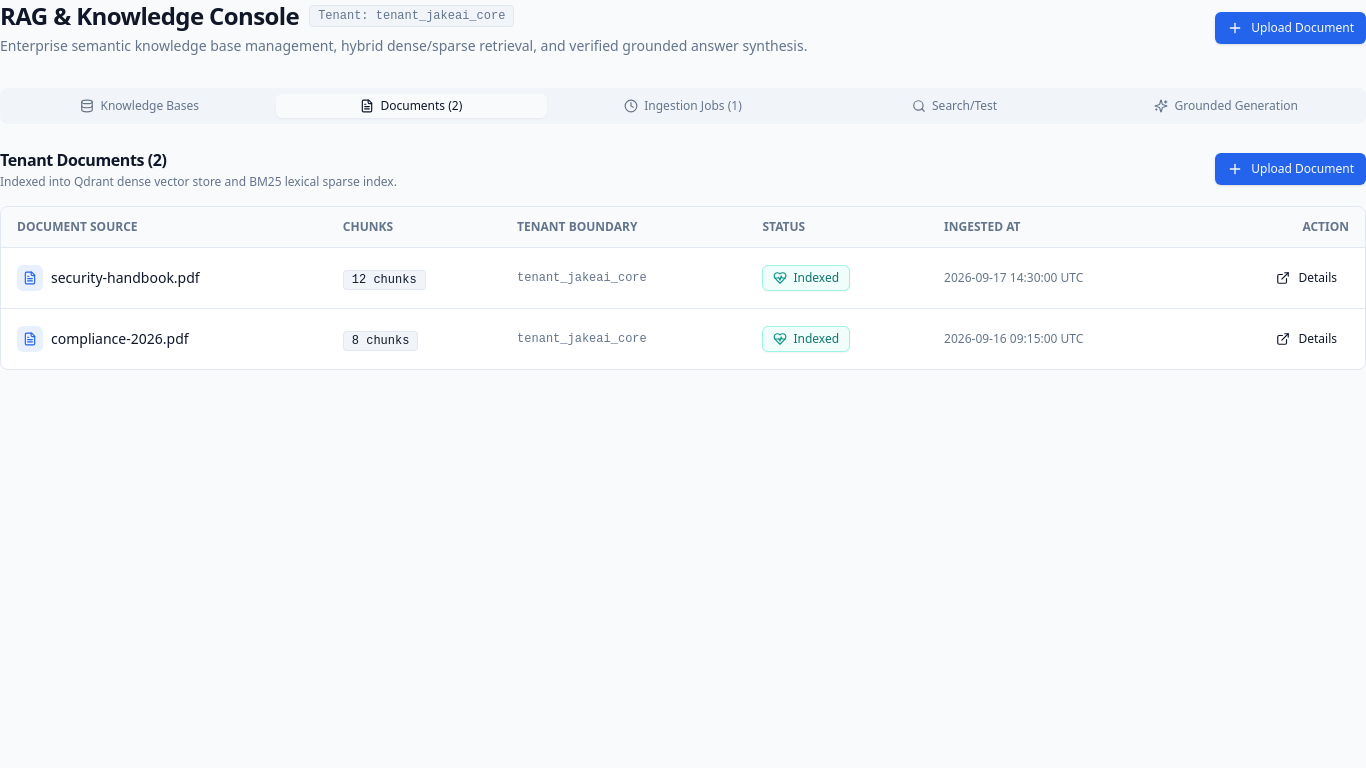
FE-05 RAG Console Integration Suite › initiates async document ingestion, tracks pending state, and updates on polling completion
# Open upload dialog
Click the button "Upload Document" in the row of "Tenant:": click(1291, 28) [1215,12,1365,44]
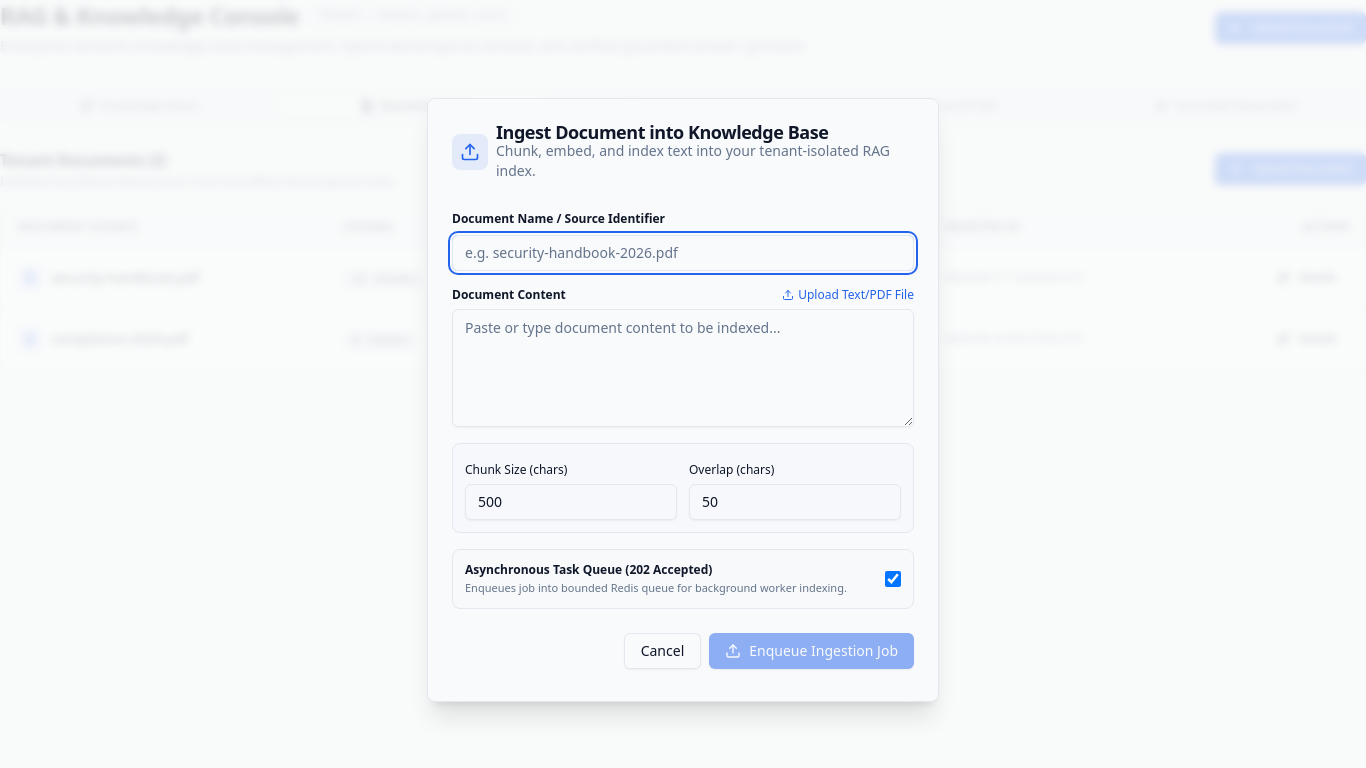
# Fill in document dialog
In the field labelled "Document Name / Source Identifier": (683, 253) [452,235,914,271], type "quarterly-report.pdf"
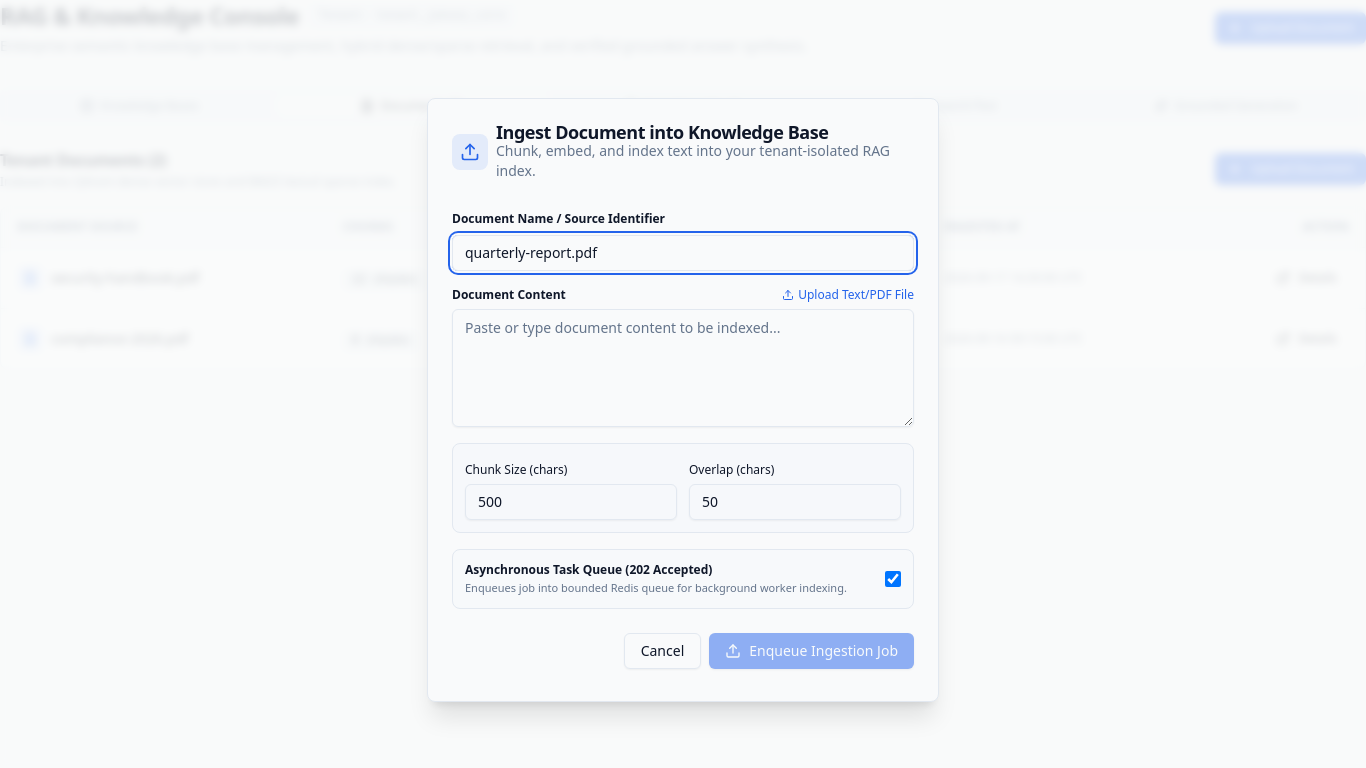
In the text box labelled "Document Content": (683, 368) [452,309,914,427], type "Quarterly security compliance audit passed with zero vulnerabilities."
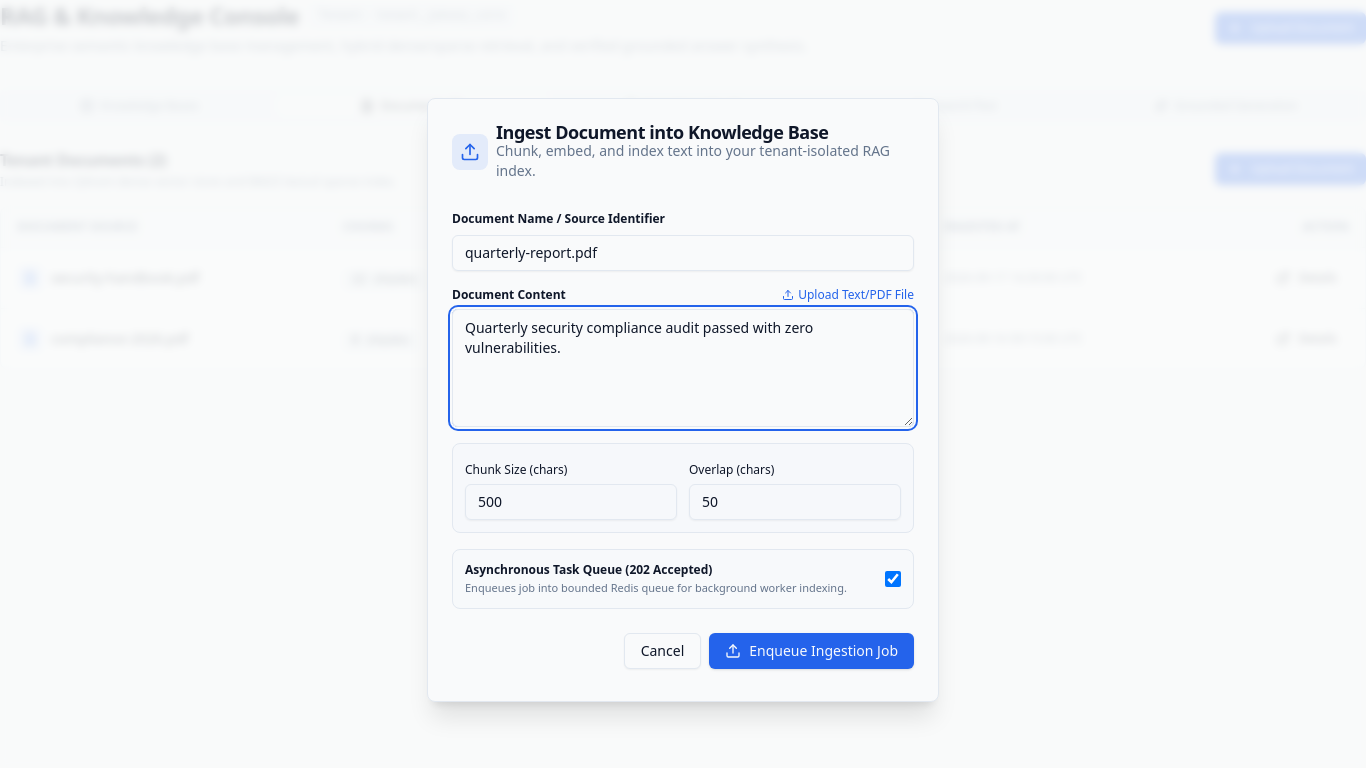
# Submit ingestion
Click the button "Enqueue Ingestion Job": click(812, 651) [709,633,914,669]
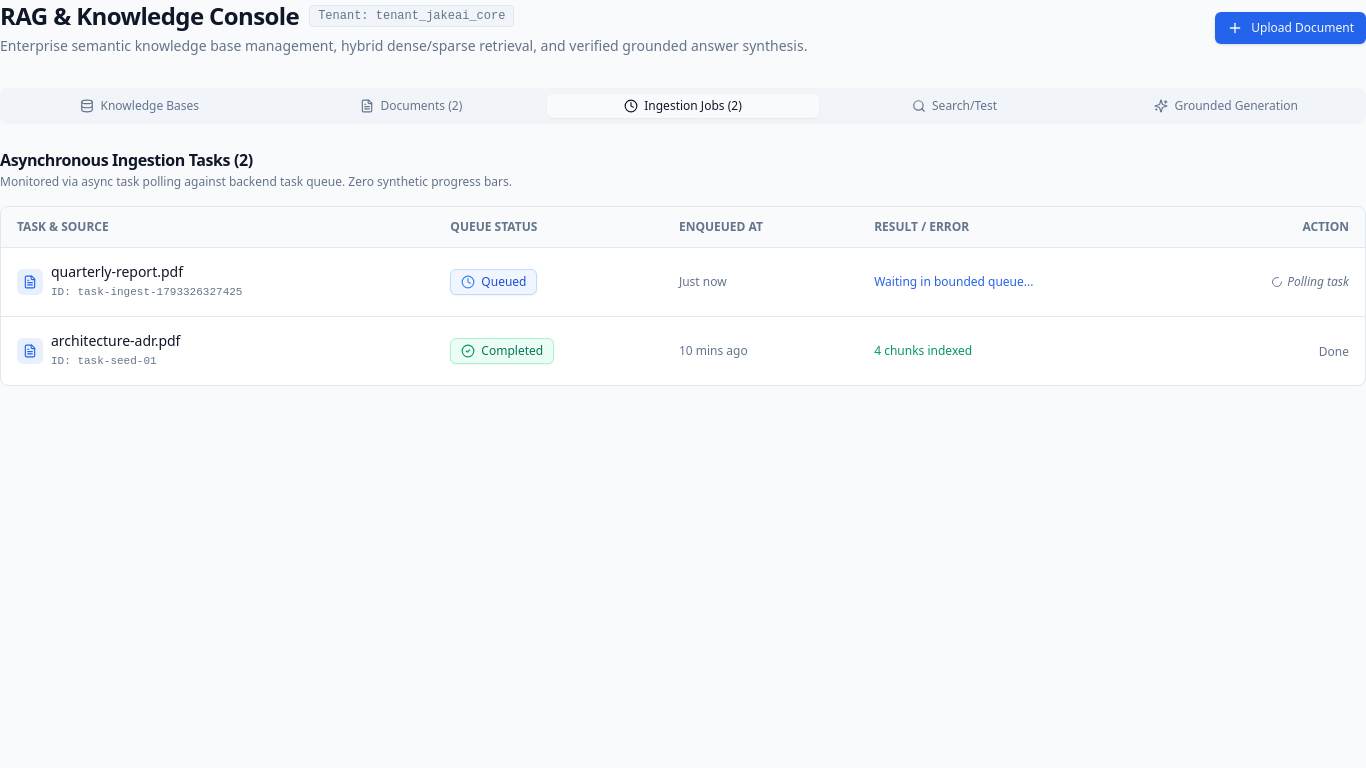
Result: the text "quarterly-report.pdf" is shown at [51,262,183,281]
Result: the heading "Asynchronous Ingestion Tasks (2)" is shown at [0,149,253,171]
